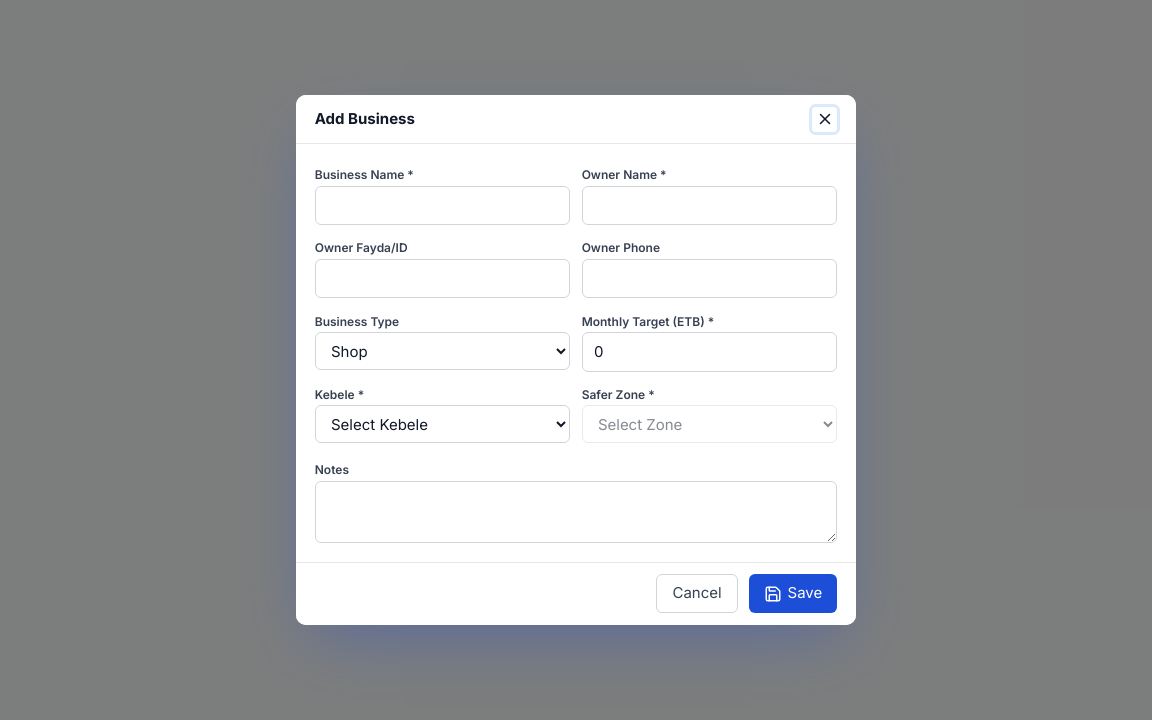
Test case: Business form validation (real component) › validates kebele → zone cascade (zone requires kebele)
Expected: the dropdown labelled "Safer Zone *" is disabled, [582,405,837,443]
Select "K05" in the dropdown labelled "Kebele *": (443, 424) [315,405,570,443]
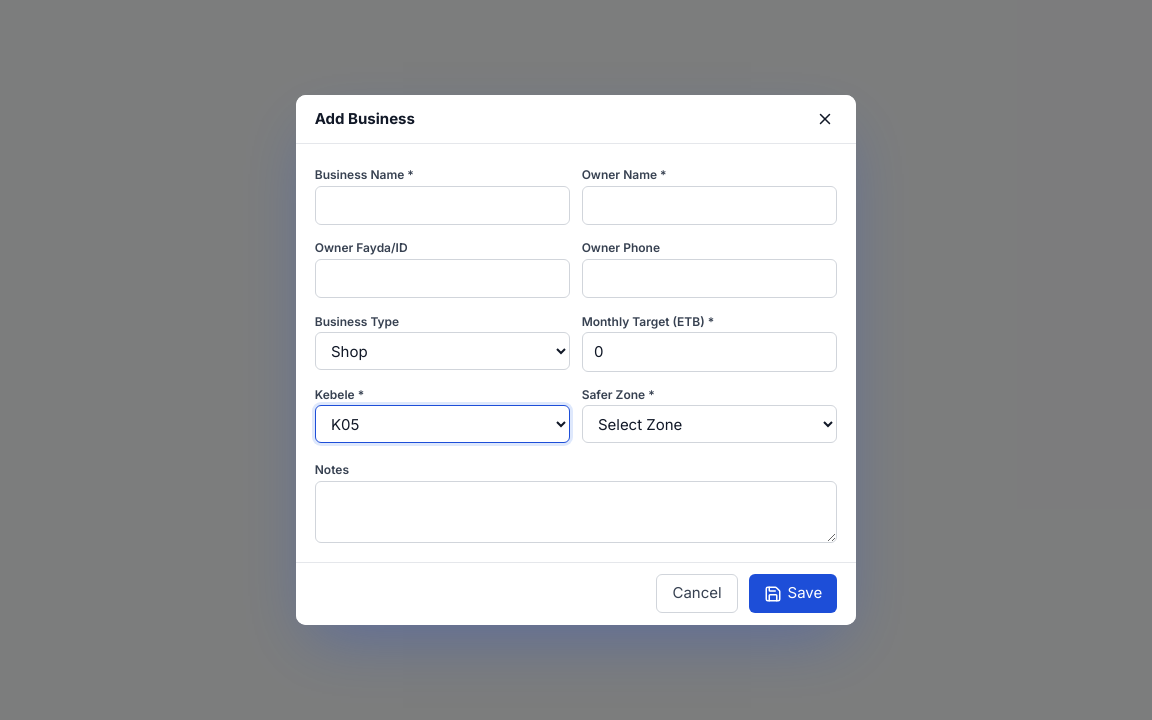
Expected: the dropdown labelled "Safer Zone *" is enabled, [582,405,837,443]
